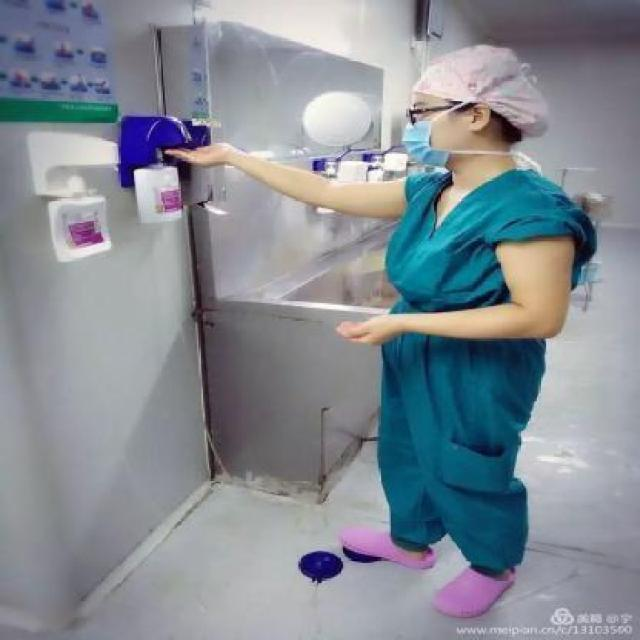face_mask: (397, 97, 457, 169)
glasses: (397, 102, 428, 125)
hand_noglove: (337, 311, 395, 346), (166, 143, 234, 171)
person: (182, 46, 542, 614)
